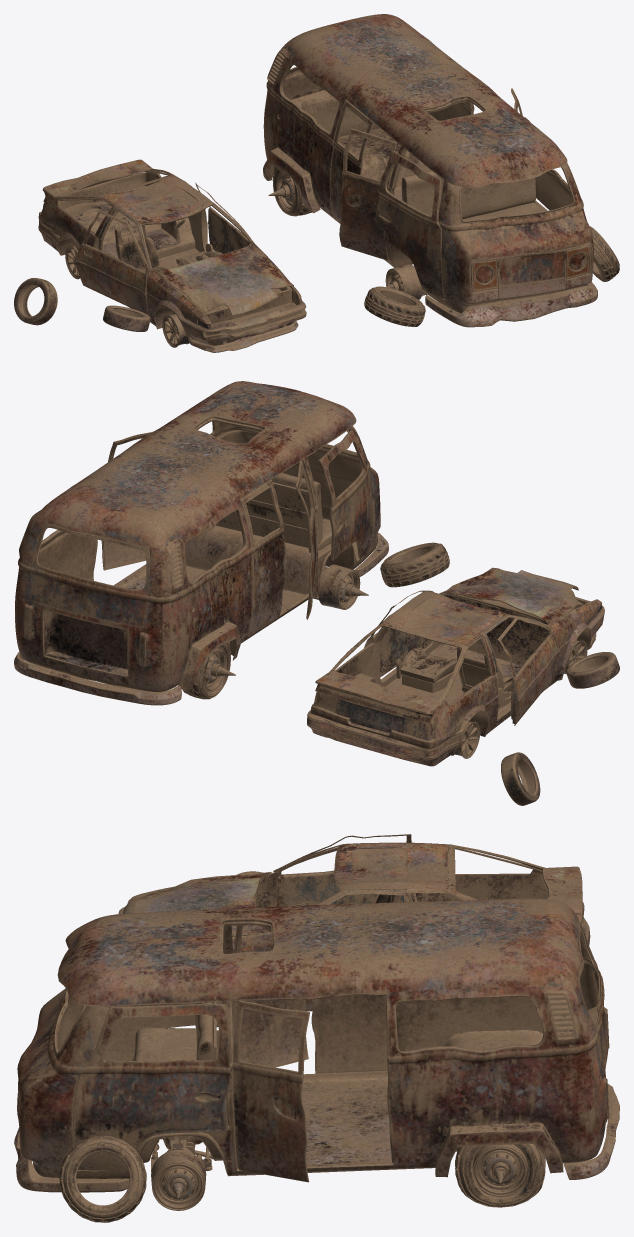
The model's file is cars.glb.
3 renders of one model, top to bottom at view 1: azimuth 30°, elevation 25°; view 2: azimuth 150°, elevation 25°; view 3: azimuth 270°, elevation 25°, orthographic. The views are drawn at different scales.
Parts seen in each view (by area): view 1: XI_BL_V_Van.Shape, XI_Barrenland_V_Car.Shape; view 2: XI_BL_V_Van.Shape, XI_Barrenland_V_Car.Shape; view 3: XI_BL_V_Van.Shape, XI_Barrenland_V_Car.Shape.
Part boxes in pixels (bbox=[...]): XI_BL_V_Van.Shape: bbox=[263, 14, 619, 327]; XI_Barrenland_V_Car.Shape: bbox=[14, 159, 306, 352]; XI_BL_V_Van.Shape: bbox=[14, 381, 449, 705]; XI_Barrenland_V_Car.Shape: bbox=[307, 567, 619, 805]; XI_BL_V_Van.Shape: bbox=[14, 898, 619, 1222]; XI_Barrenland_V_Car.Shape: bbox=[118, 834, 590, 1027].
Bounding box in the file's own units: 7.38 × 3.04 × 5.96.
Materials: 5 (5 with a texture image).
